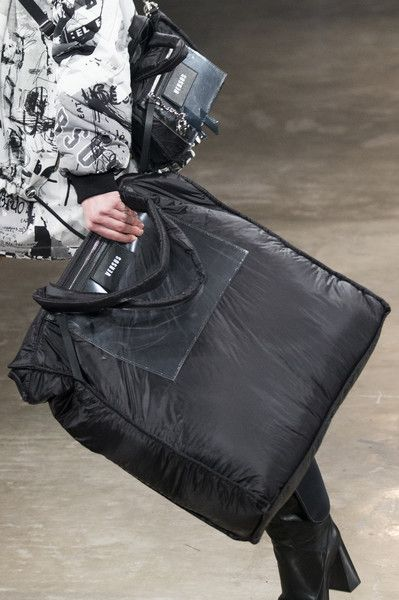nylon: (13, 173, 391, 541)
